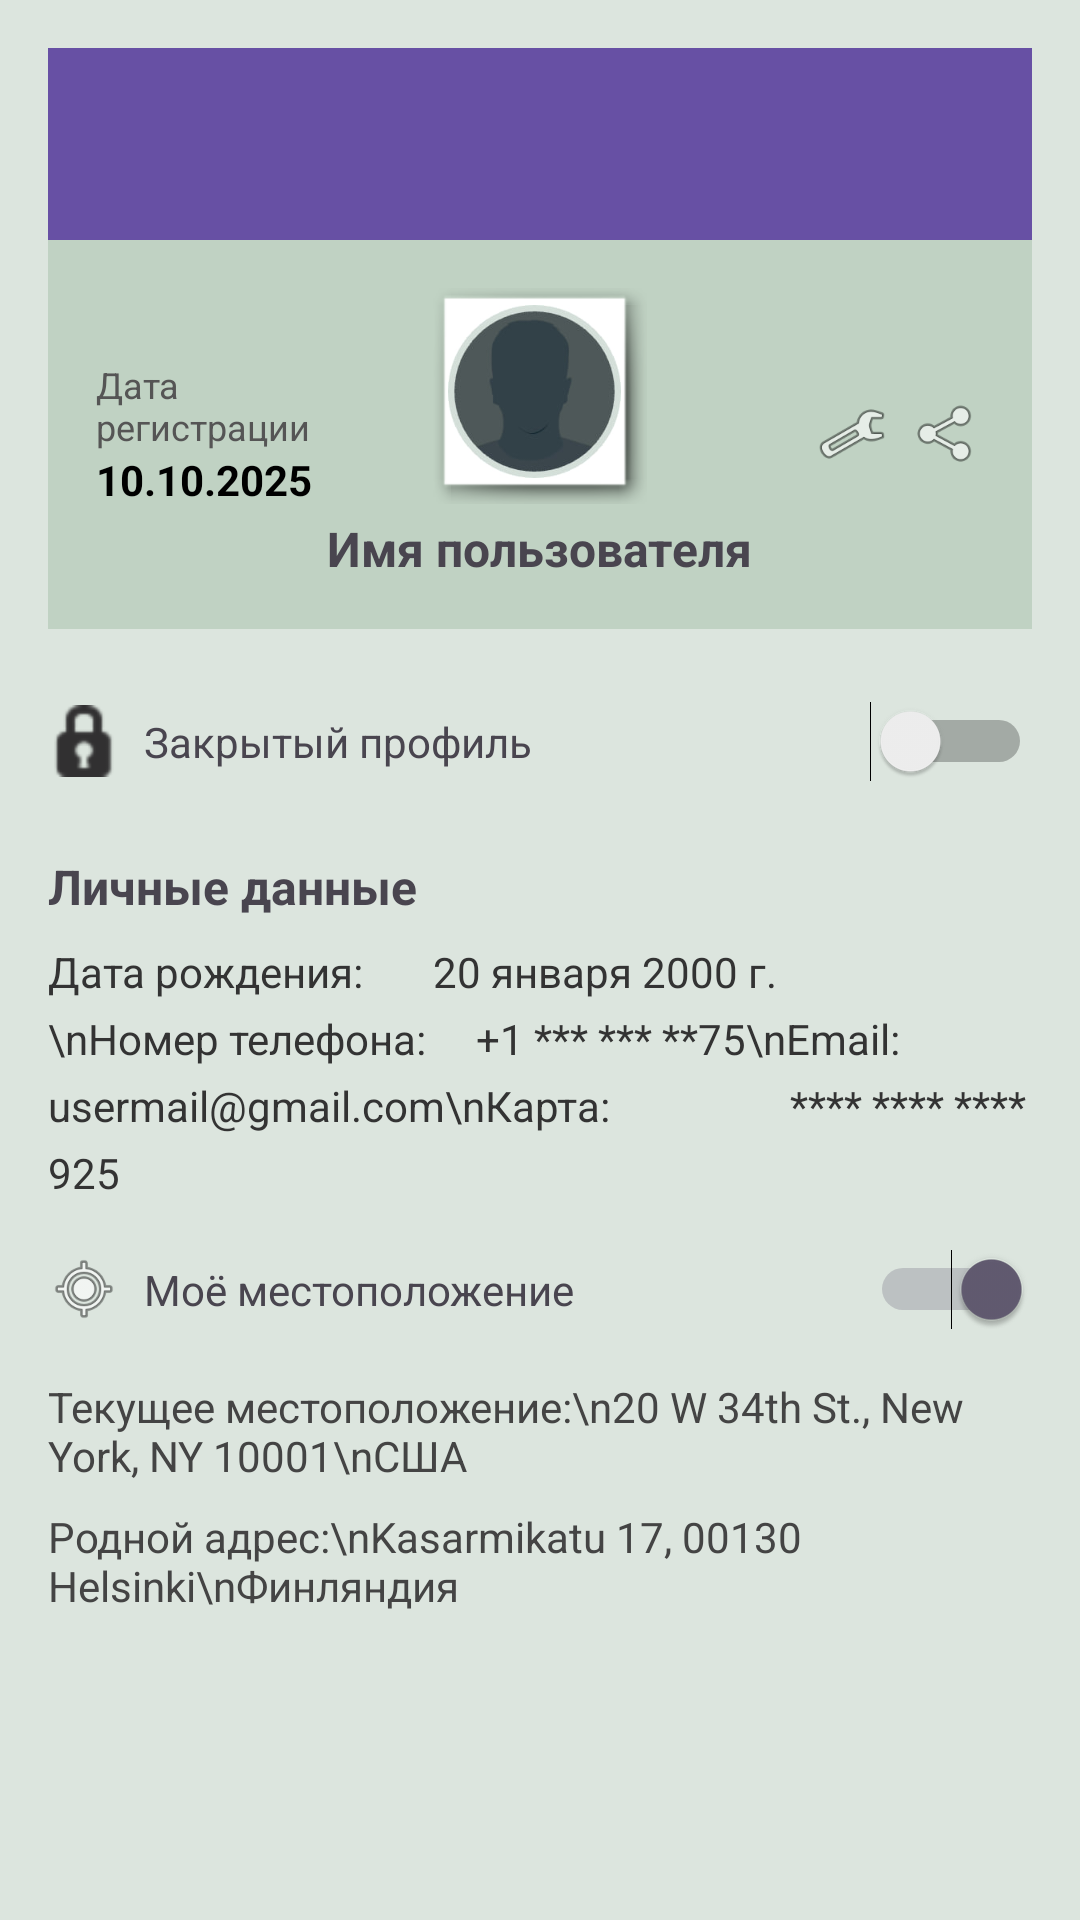

Icons on this 1080×1920 Android screen, each with its box as (x1, y1, x2, y2):
manage: (820, 409, 884, 459)
mylocation: (55, 1260, 113, 1318)
profil: (444, 298, 638, 498)
secure: (56, 705, 112, 777)
share: (917, 405, 971, 462)
